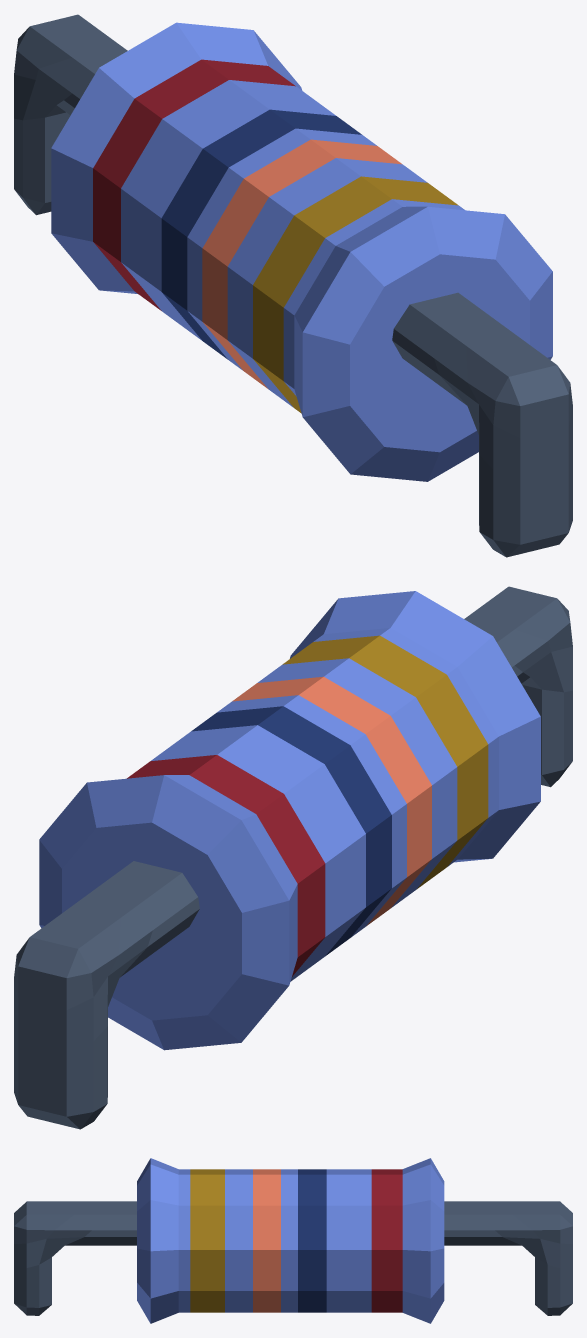
The picture shows the model from 3 angles, top to bottom: view 1: azimuth 30°, elevation 25°; view 2: azimuth 150°, elevation 25°; view 3: azimuth 270°, elevation 25°; orthographic projection. The views are drawn at different scales.
Visible parts, largest first — view 1: D 1; view 2: D 1; view 3: D 1.
Boxes of the visible parts, box(x1,y1,x2,y2) form: D 1: box(14, 14, 572, 557); D 1: box(14, 586, 572, 1129); D 1: box(14, 1158, 572, 1323).
Size of the model in its own units: 15.35 by 16.14 by 53.38.
